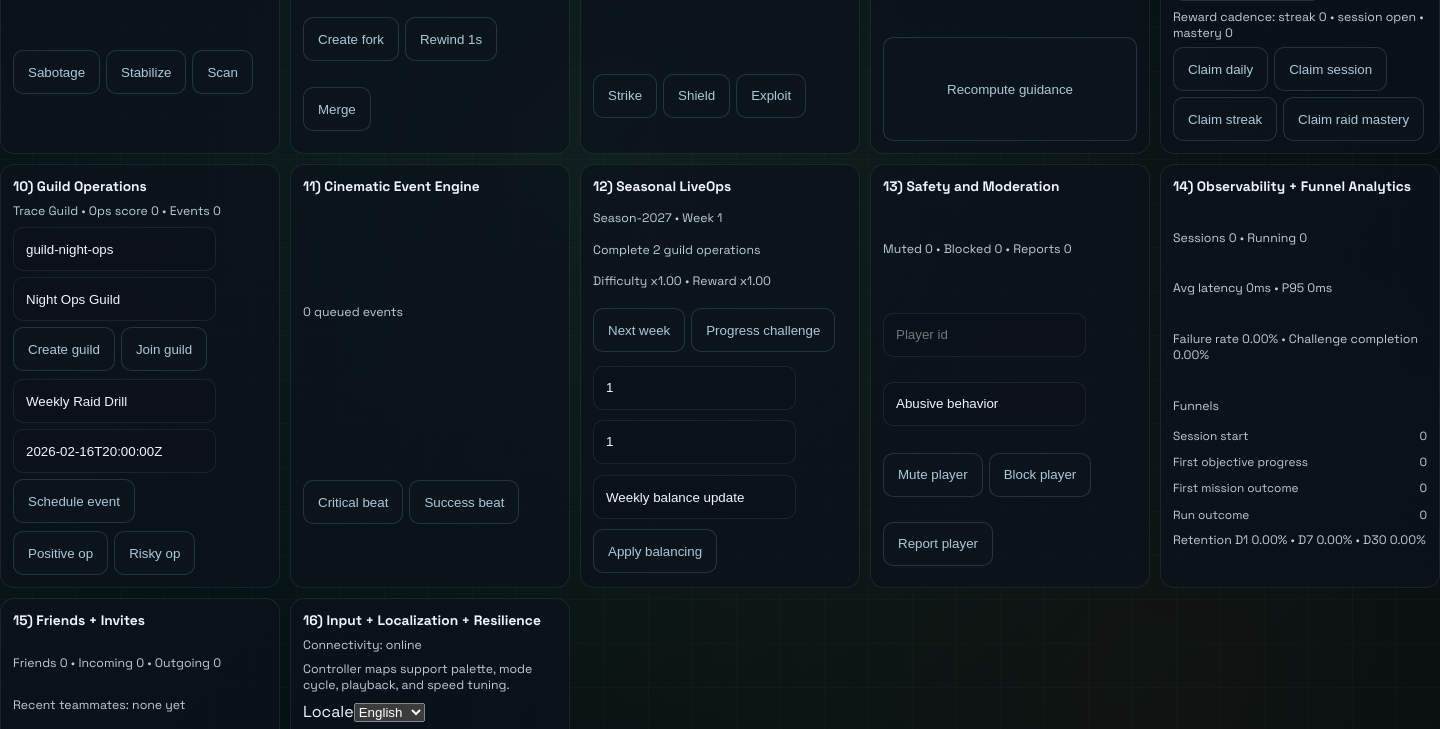
Test: GameplayMode › supports liveops weekly rotation
The width and height of the screenshot is (1440, 729).
(page scrolled)
Step 1. Click the button "Next week" → (639, 330), box [593,308,685,352]
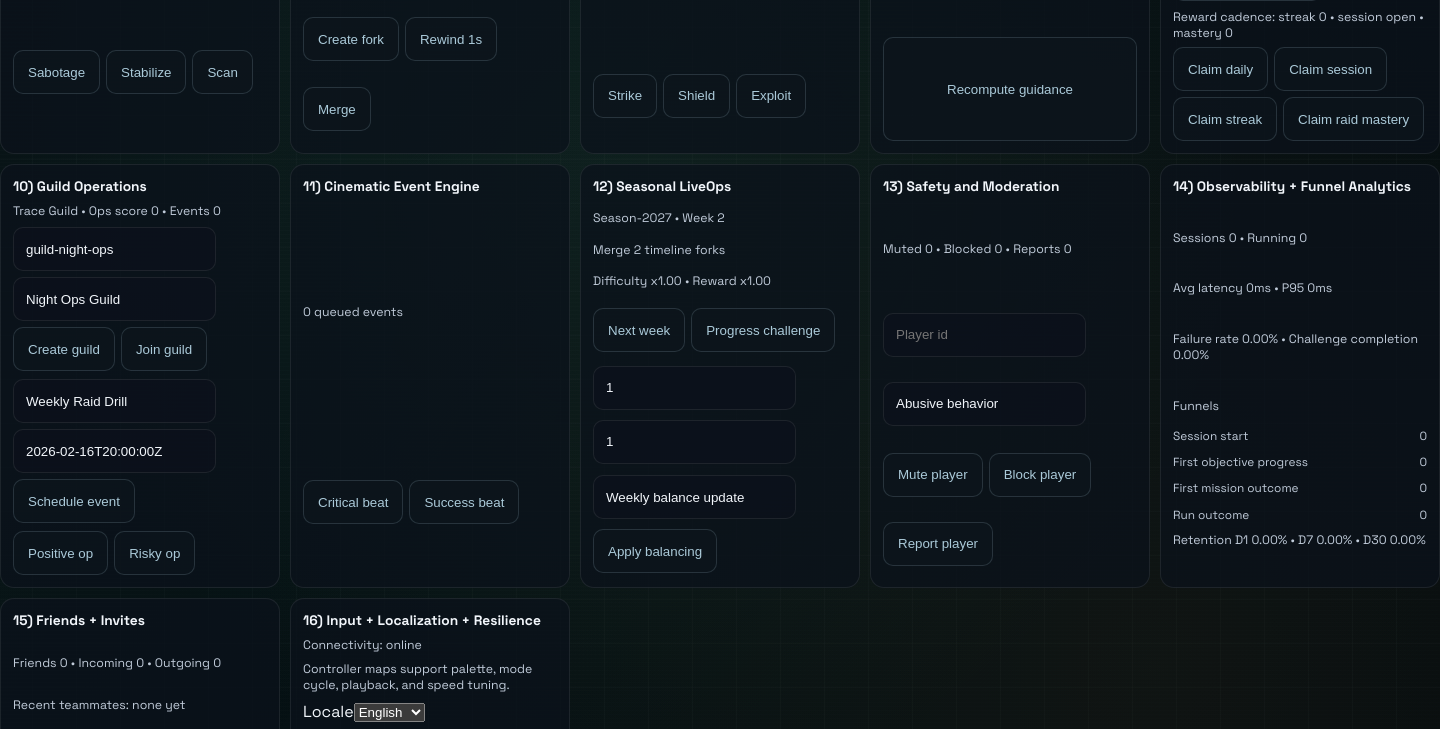
Check: the text "Season-2027 • Week 2" is shown, box [593,210,725,226]
